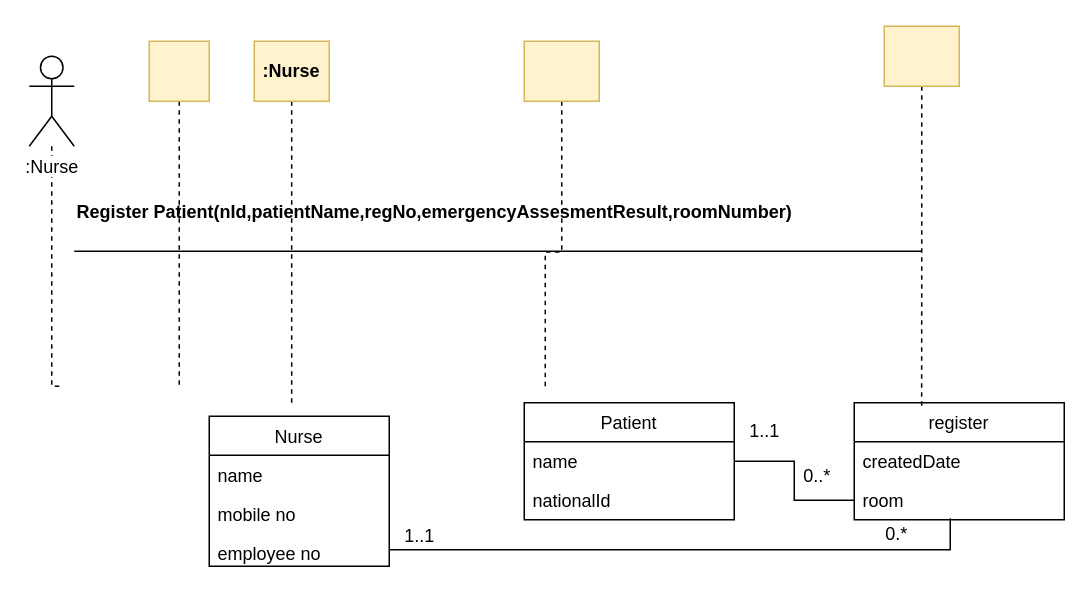
Some shapes in this 1091 by 597 pixel diagram are drawn without their labels. The shapes that lost their labels are listed below. From the top down, each one's centre as x and y in pixels, then its label:
point 178,70: :UI
point 561,70: :Patient
point 921,55: :register
